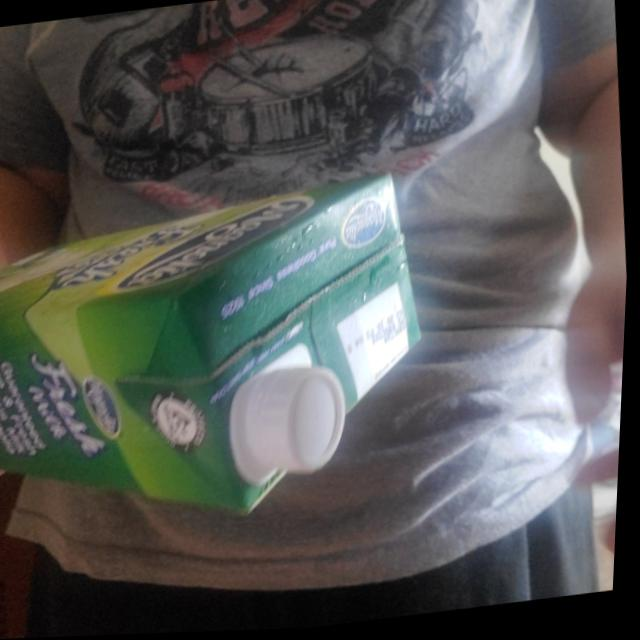milk: (0, 173, 443, 539)
